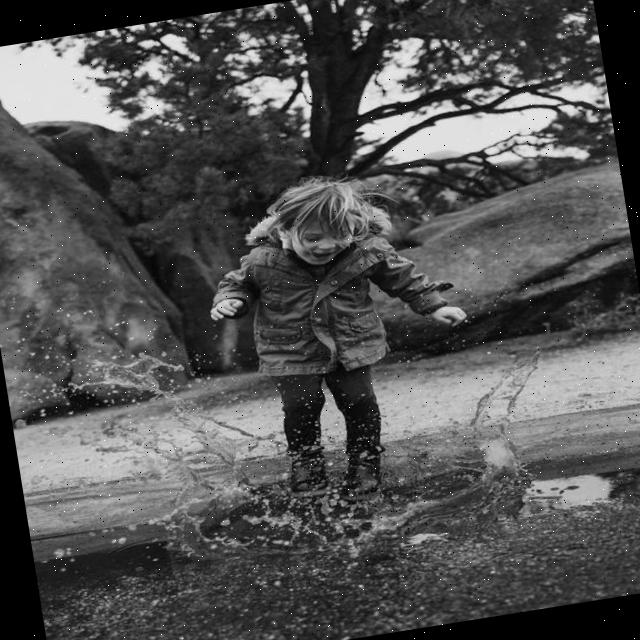Happiness: (287, 214, 361, 270)
